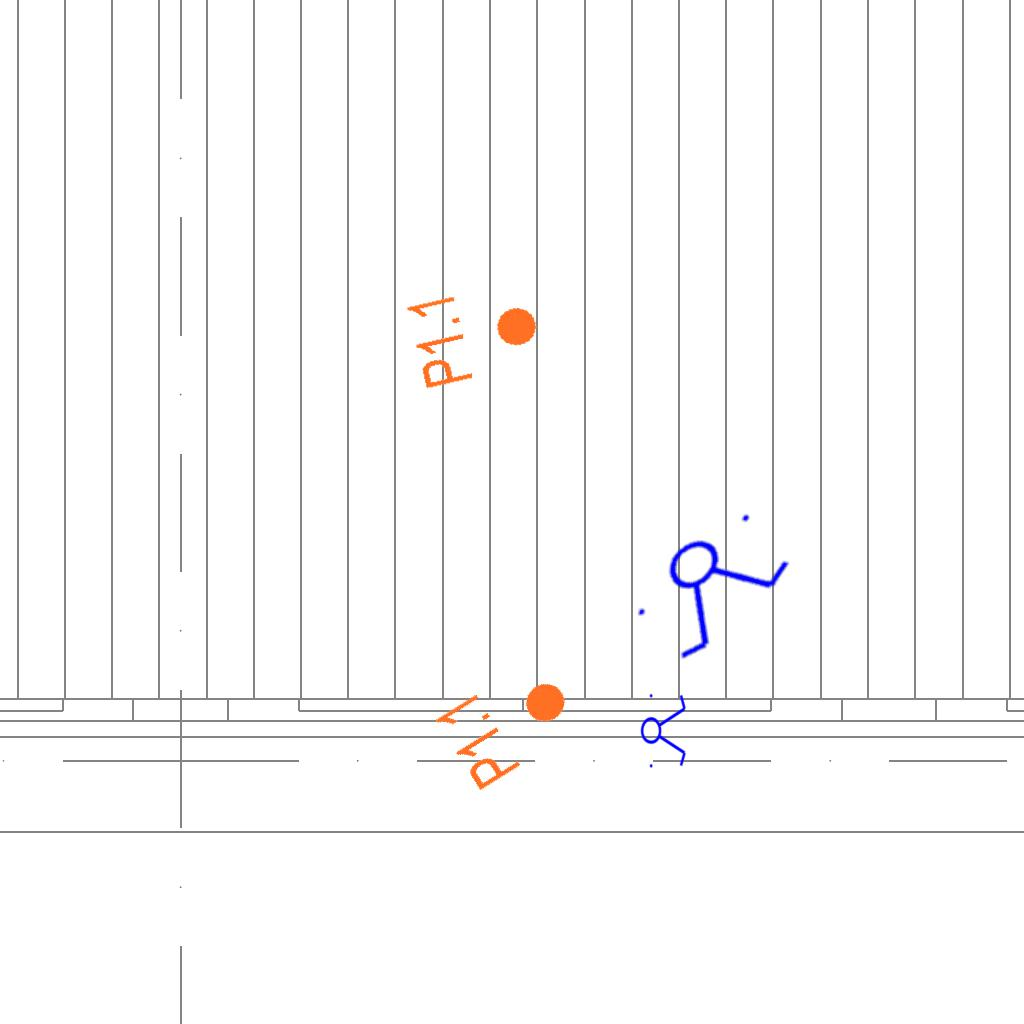Downlight_LED_Einbauleuchten_Flur: (429, 648, 588, 796), (402, 273, 549, 393)
Serienschalter: (617, 491, 807, 675), (640, 688, 688, 772)
